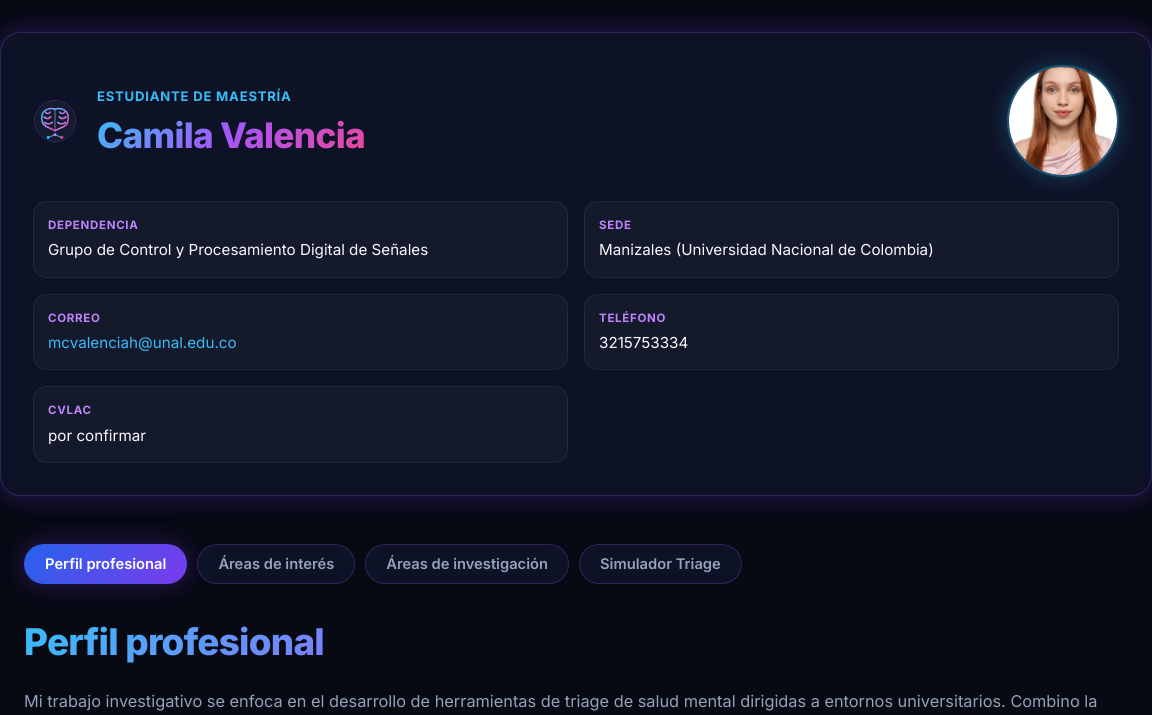
Scenario: App tab navigation (profile-tabs S1-S2, four tabs S3) › switches content by tab state without changing the URL or reloading
Click the button "Áreas de investigación".
click(467, 564)  # box [365,544,569,584]
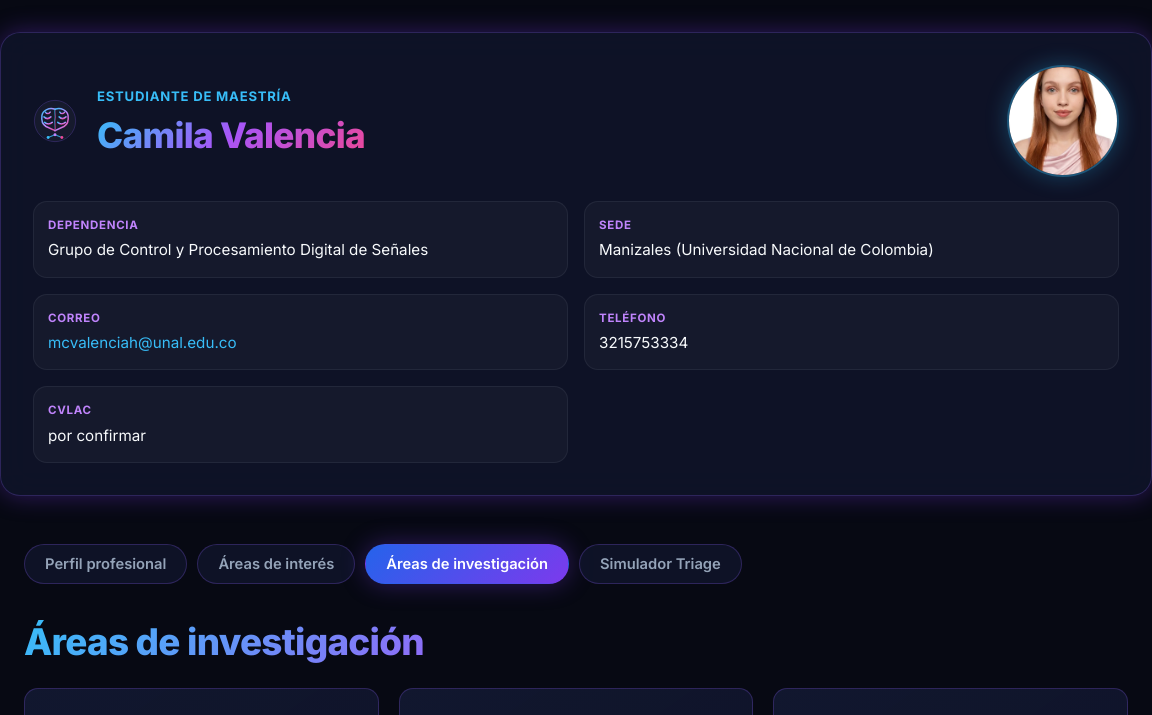
Expected: the heading "Áreas de investigación" is shown, [24,620,1128,664]
Click the button "Simulador Triage".
click(660, 564)  # box [579,544,742,584]
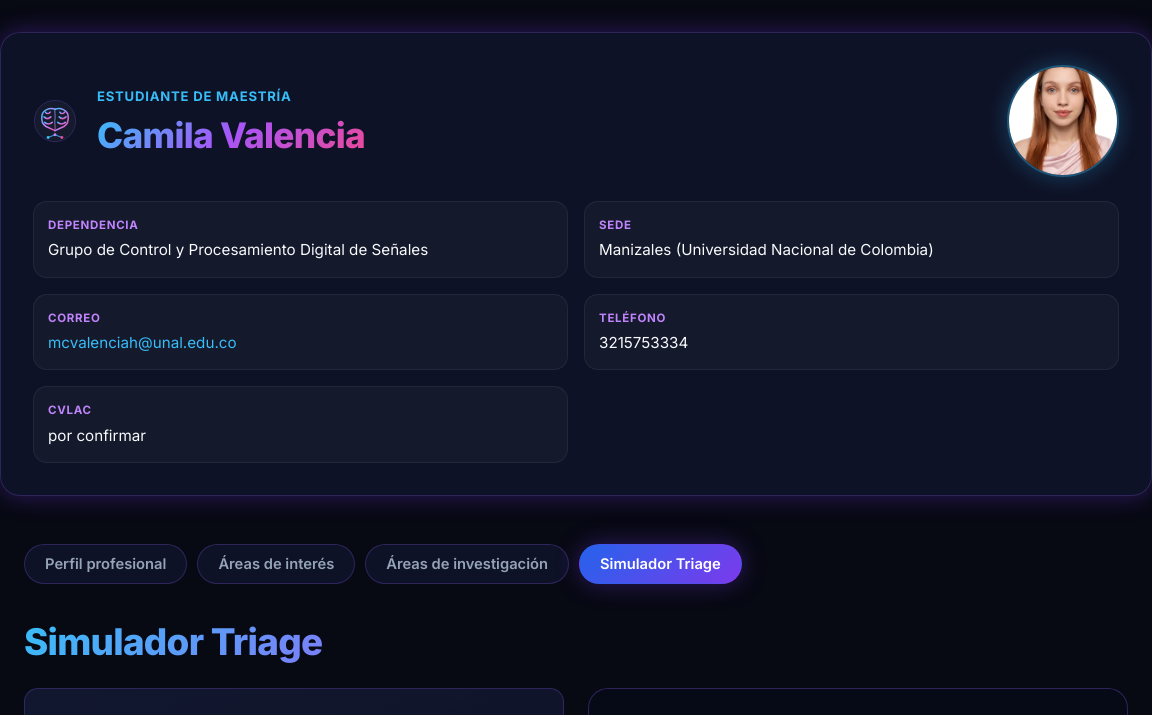
Expected: the heading "Simulador Triage" is shown, [24,620,1128,664]
